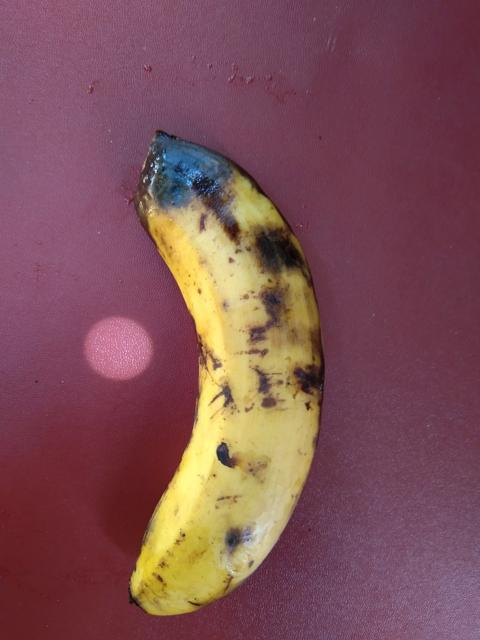overripe: (90, 244, 338, 639)
rotten: (89, 97, 345, 373)
